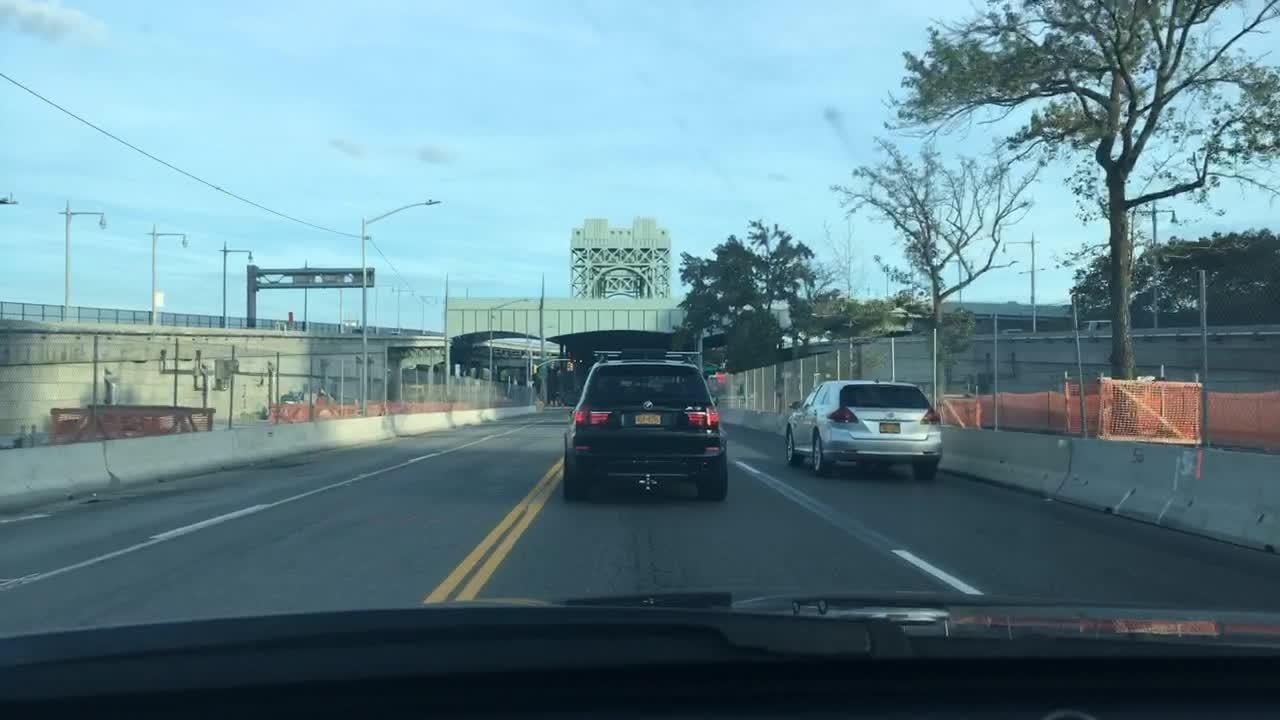bmw: (639, 396, 656, 412)
